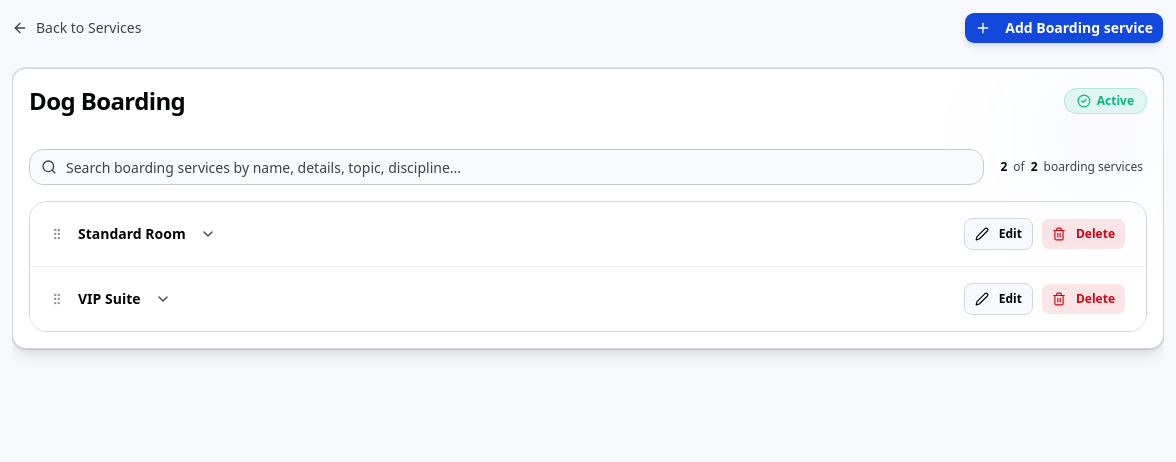
Scenario: DashboardServiceDetail Component › should format pricing with night/day/service suffix for Boarding services
Click the button named "Expand". click: x=208, y=234
box: [196,222,220,246]
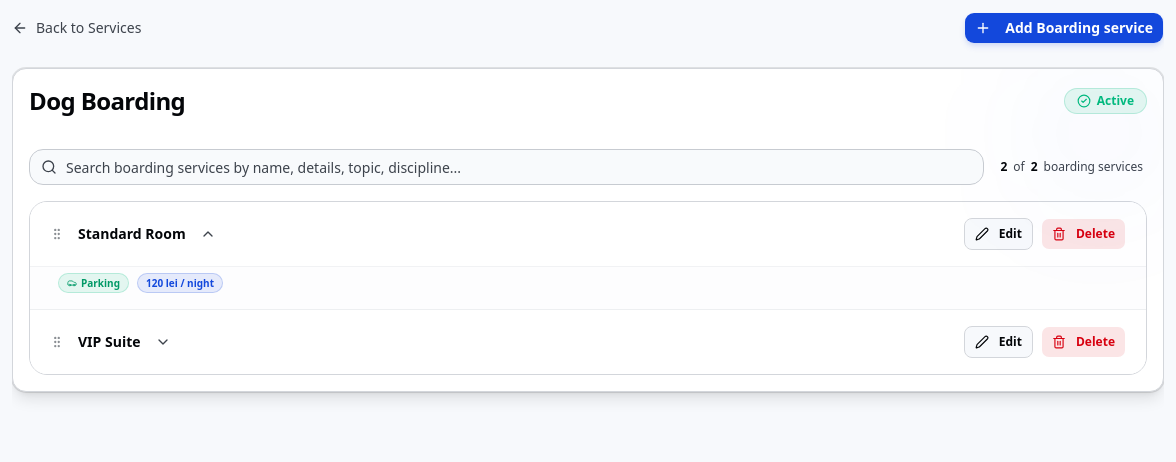
Click the button named "Expand". click: x=162, y=342
box: [150,330,174,354]
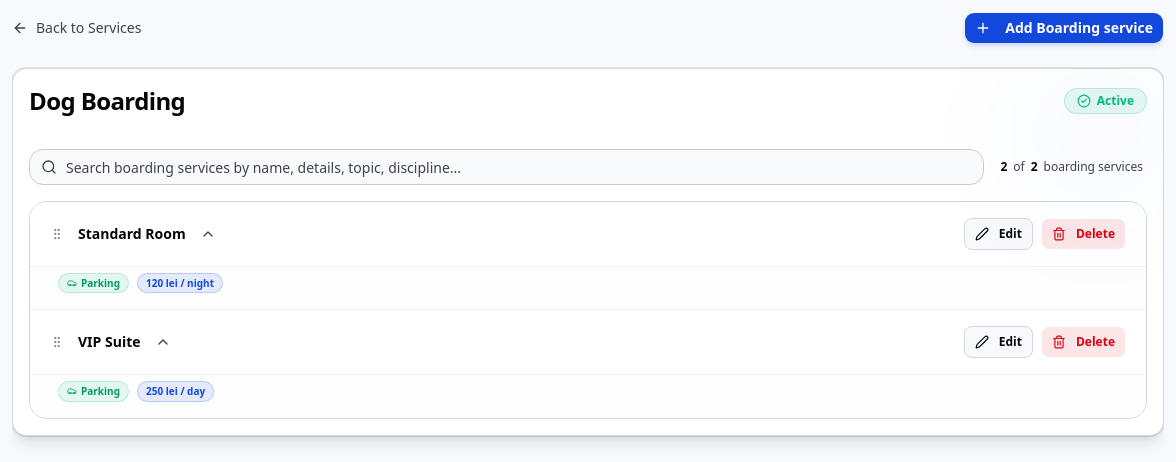
Check: the text "120 lei / night" is shown, box [137,273,223,293]
Check: the text "250 lei / day" is shown, box [137,381,214,402]
